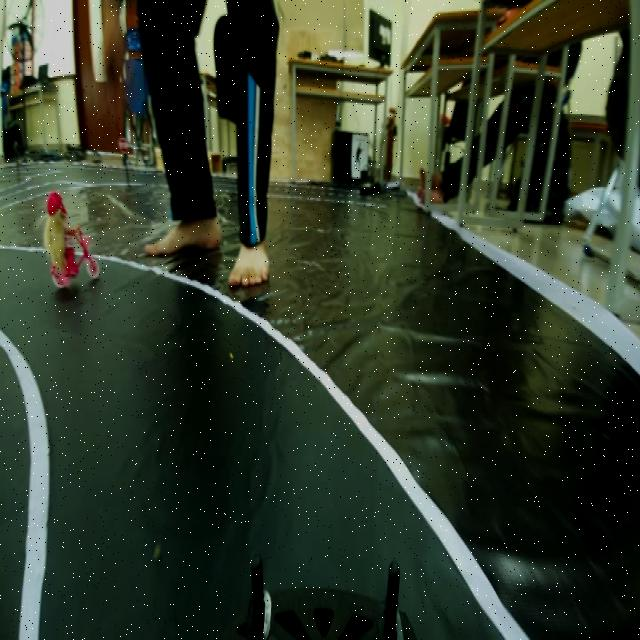pedestrian: (31, 192, 100, 293)
